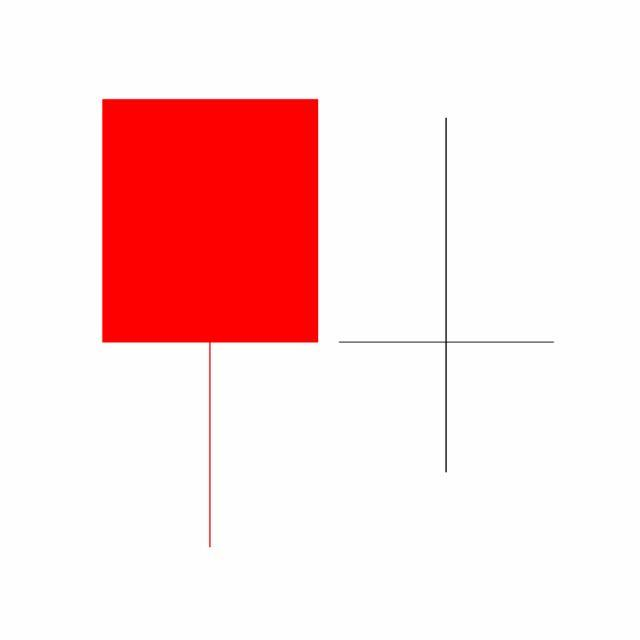Spinning Top: (328, 114, 566, 477)
